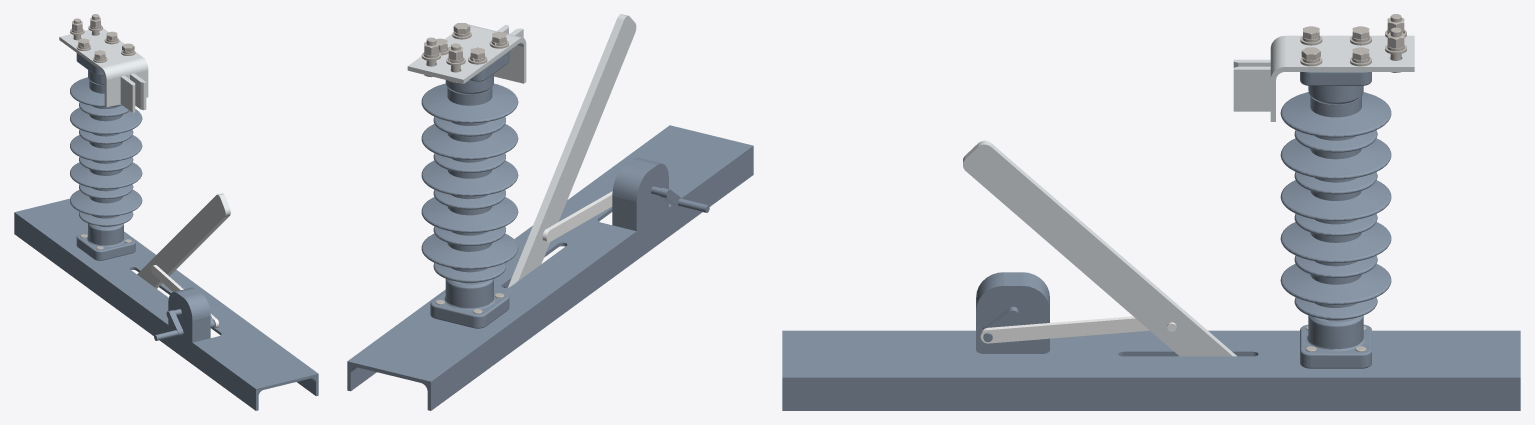
File: auto-ground-switch.glb
3 renders of one model, left to right at view 1: azimuth 30°, elevation 25°; view 2: azimuth 150°, elevation 25°; view 3: azimuth 270°, elevation 25°, orthographic. The views are drawn at different scales.
Parts seen in each view (by area): view 1: 9e8ecbfd-d03b-452d-9a6a-2e15f3a2a249_48a01c9b-0107-4207-bcbc, ´¥ָĦ°, ´¥ͷ¸, l¸; view 2: 9e8ecbfd-d03b-452d-9a6a-2e15f3a2a249_48a01c9b-0107-4207-bcbc, ´¥ͷ¸, ´¥ָĦ°, l¸; view 3: 9e8ecbfd-d03b-452d-9a6a-2e15f3a2a249_48a01c9b-0107-4207-bcbc, ´¥ͷ¸, ´¥ָĦ°, l¸.
Boxes of the visible parts, box(x1,y1,x2,y2) form: 9e8ecbfd-d03b-452d-9a6a-2e15f3a2a249_48a01c9b-0107-4207-bcbc: box(14, 53, 318, 410); ´¥ָĦ°: box(59, 28, 148, 112); ´¥ͷ¸: box(137, 193, 230, 288); l¸: box(151, 265, 219, 328); 9e8ecbfd-d03b-452d-9a6a-2e15f3a2a249_48a01c9b-0107-4207-bcbc: box(347, 51, 753, 410); ´¥ͷ¸: box(508, 14, 636, 287); ´¥ָĦ°: box(407, 24, 526, 84); l¸: box(542, 191, 612, 242); 9e8ecbfd-d03b-452d-9a6a-2e15f3a2a249_48a01c9b-0107-4207-bcbc: box(782, 72, 1520, 410); ´¥ͷ¸: box(963, 140, 1236, 356); ´¥ָĦ°: box(1233, 35, 1414, 121); l¸: box(980, 316, 1176, 343).
Size of the model in its own units: 183 by 444 by 800.
